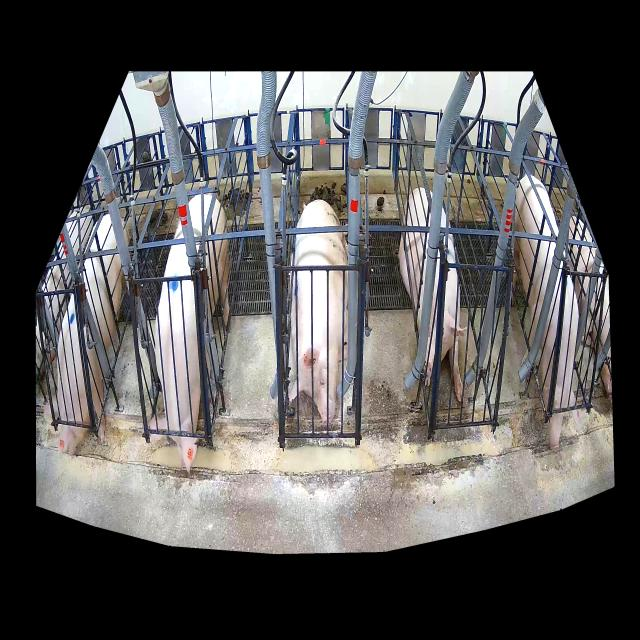pig: (150, 194, 230, 473), (44, 214, 124, 457), (512, 175, 581, 450), (398, 188, 466, 401), (289, 199, 348, 426)
